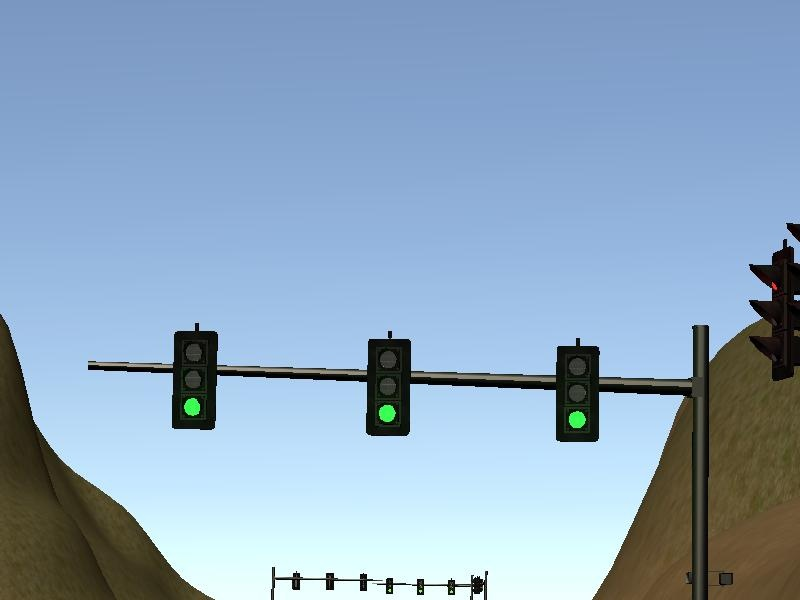green: (367, 339, 412, 439), (174, 329, 217, 433), (554, 347, 600, 442)
